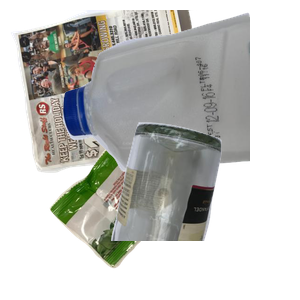glass: (109, 120, 300, 300)
paper: (10, 10, 210, 175)
plastic: (60, 10, 300, 175)
trash: (47, 146, 220, 300)
